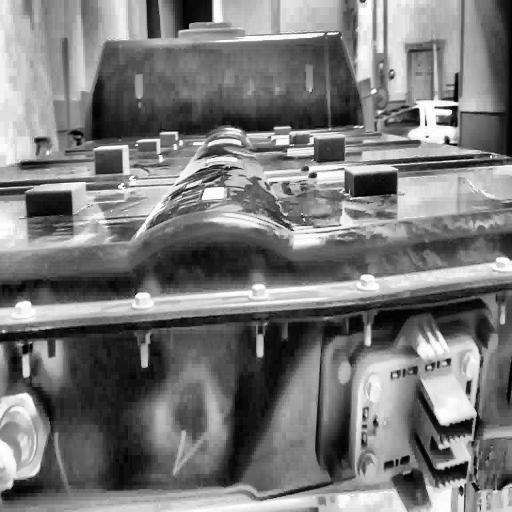b_casing: (0, 30, 512, 512)
nut: (10, 301, 38, 382), (132, 290, 156, 370), (248, 285, 270, 359), (357, 272, 379, 346), (491, 255, 512, 324), (358, 453, 378, 485), (462, 352, 478, 381), (366, 378, 382, 404)
